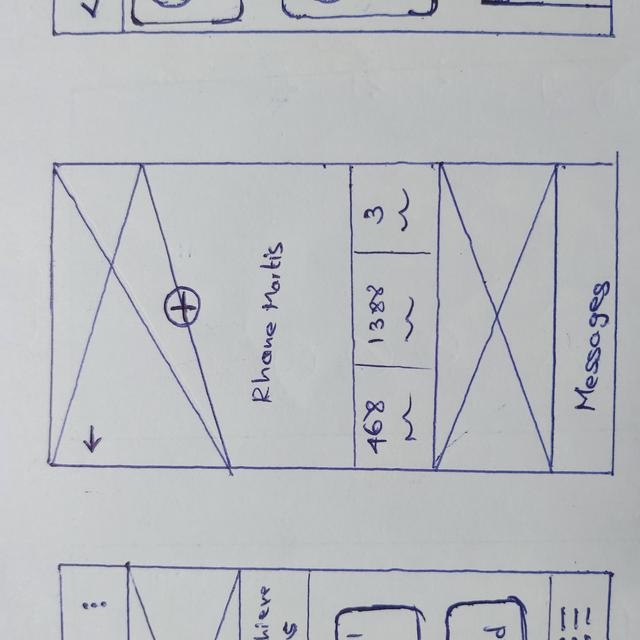BackButton: (81, 424, 105, 454)
IconButton: (161, 285, 204, 330)
Image: (437, 164, 553, 472)
Layout: (351, 251, 438, 369), (354, 368, 435, 470), (349, 168, 437, 251)
MainLayout: (52, 164, 614, 474)
TextView: (254, 244, 283, 405), (576, 281, 606, 412), (363, 281, 386, 345), (363, 401, 387, 454), (402, 395, 417, 446), (402, 295, 417, 343), (395, 189, 410, 236), (363, 201, 386, 226)
